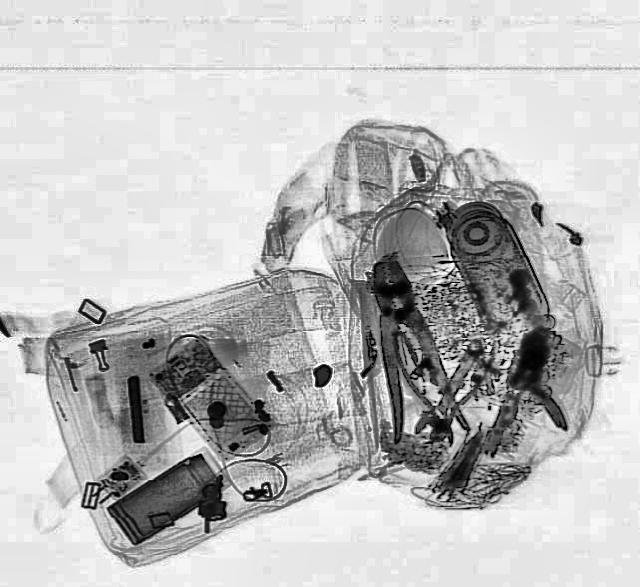Pliers: (342, 253, 472, 444), (382, 324, 498, 450)
Wrench: (408, 329, 492, 446)
